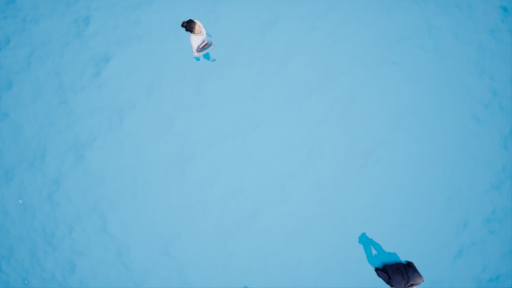person: (358, 228, 433, 288), (177, 8, 223, 67)
